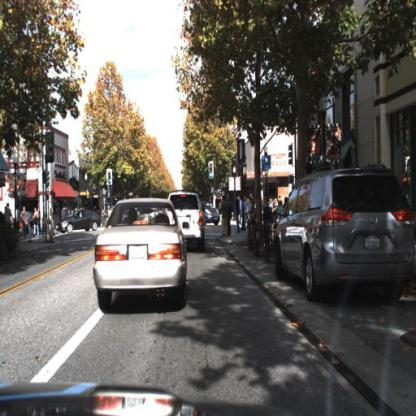car: (275, 167, 415, 302), (92, 196, 192, 324), (175, 189, 208, 255), (57, 207, 104, 237), (198, 199, 222, 225)
pedestrian: (218, 196, 229, 240), (235, 195, 244, 237), (28, 208, 37, 242), (35, 207, 44, 238), (236, 194, 245, 223), (226, 194, 232, 237), (4, 201, 13, 228), (21, 206, 28, 240)
trafficLight-Green: (208, 158, 217, 184), (105, 167, 115, 190)
